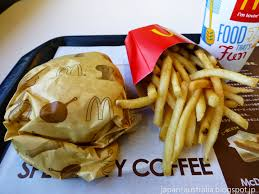hamburger: (24, 60, 96, 137)
